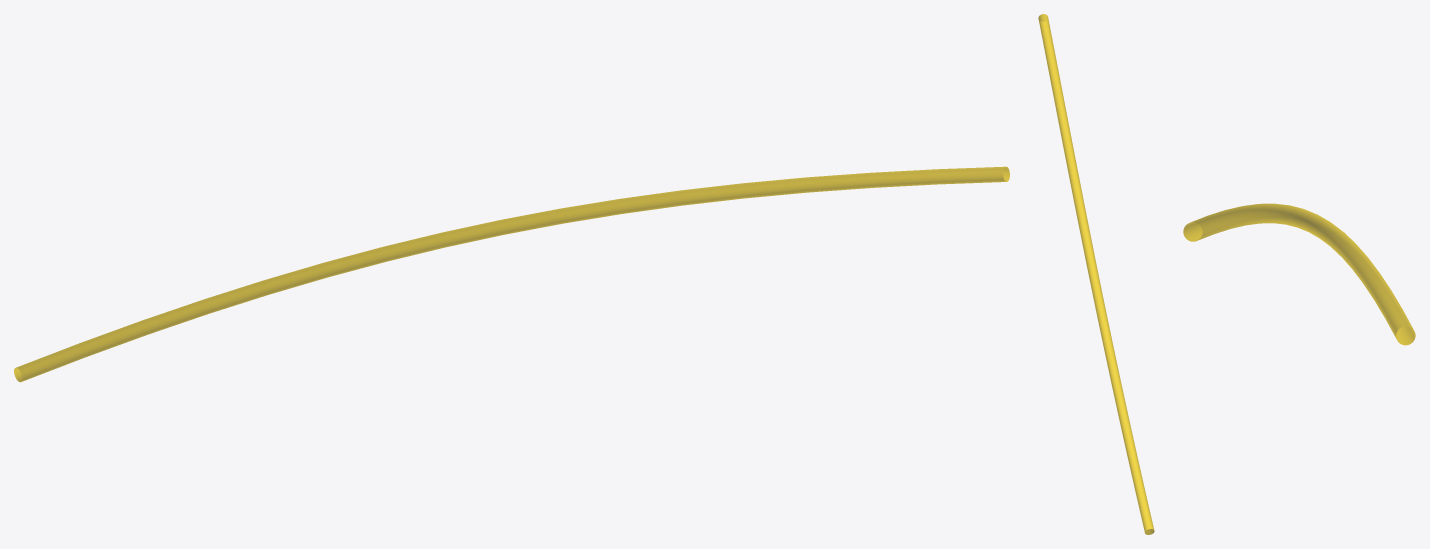
File: Event_419990632_track_37.fbx
3 views of the same model, side by side, from view 1: azimuth 30°, elevation 25°; view 2: azimuth 150°, elevation 25°; view 3: azimuth 330°, elevation 25° (orthographic). The views are drawn at different scales.
Visible parts, largest first — view 1: Model; view 2: Model; view 3: Model.
Part boxes in pixels (<box>): Model: <box>14,166,1009,382</box>; Model: <box>1038,14,1154,534</box>; Model: <box>1183,203,1415,345</box>.
Bounding box in the file's own units: 1.77 × 1.07 × 2.17.
